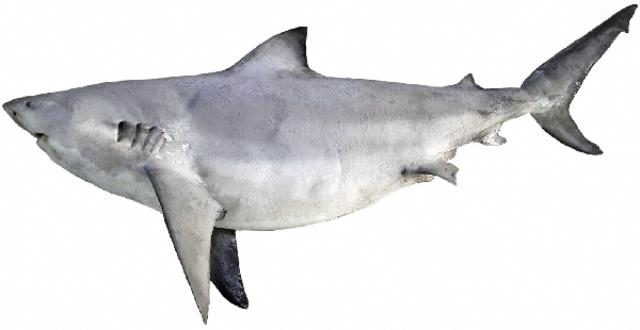Mulut: (19, 125, 65, 156)
Sirip Anal: (450, 69, 512, 155)
Sirip Dada: (137, 158, 260, 328)
Sirip Ekor: (518, 0, 640, 176)
Sirip Perut: (398, 150, 464, 196)
Sirip Punggung: (230, 17, 318, 83)
